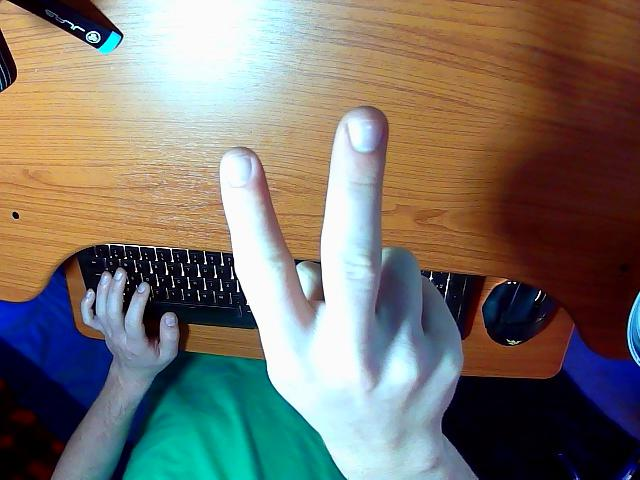scissors: (55, 108, 475, 480)
